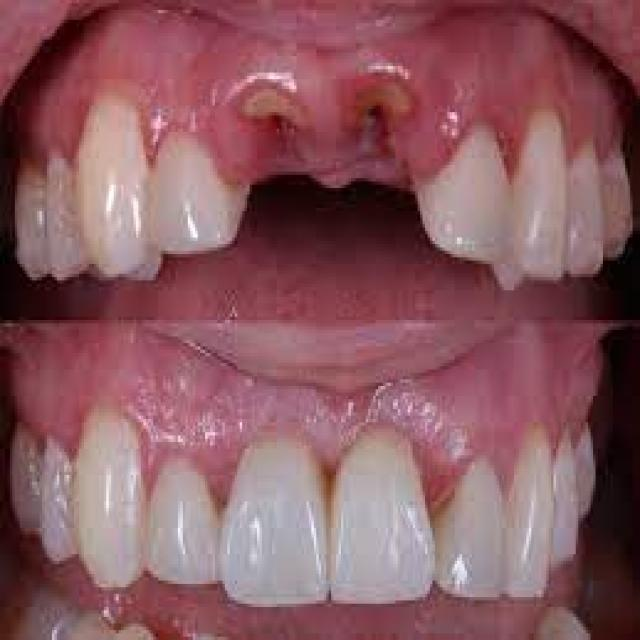tooth: (331, 416, 440, 620), (222, 419, 329, 623), (76, 396, 146, 597), (74, 99, 151, 280), (146, 125, 244, 258), (148, 446, 218, 614), (440, 442, 506, 617), (422, 132, 512, 257), (516, 99, 571, 290), (512, 416, 551, 614), (37, 426, 82, 570), (568, 132, 608, 290), (44, 142, 82, 294), (554, 426, 580, 578)
